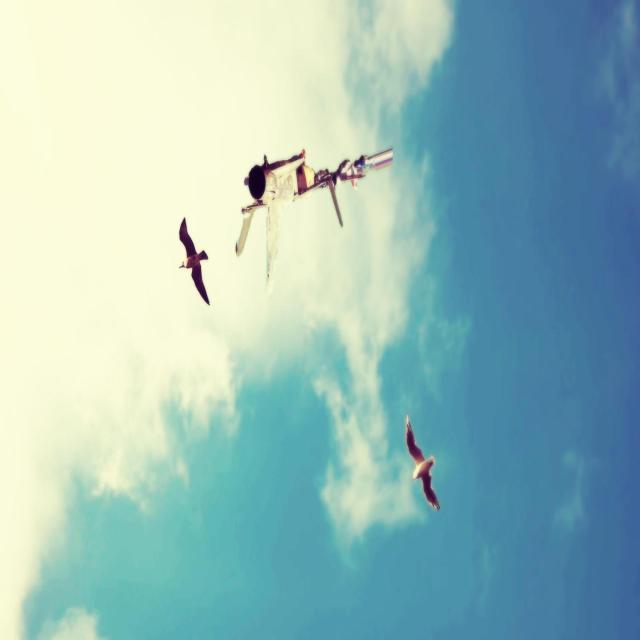airplane: (234, 146, 393, 292)
